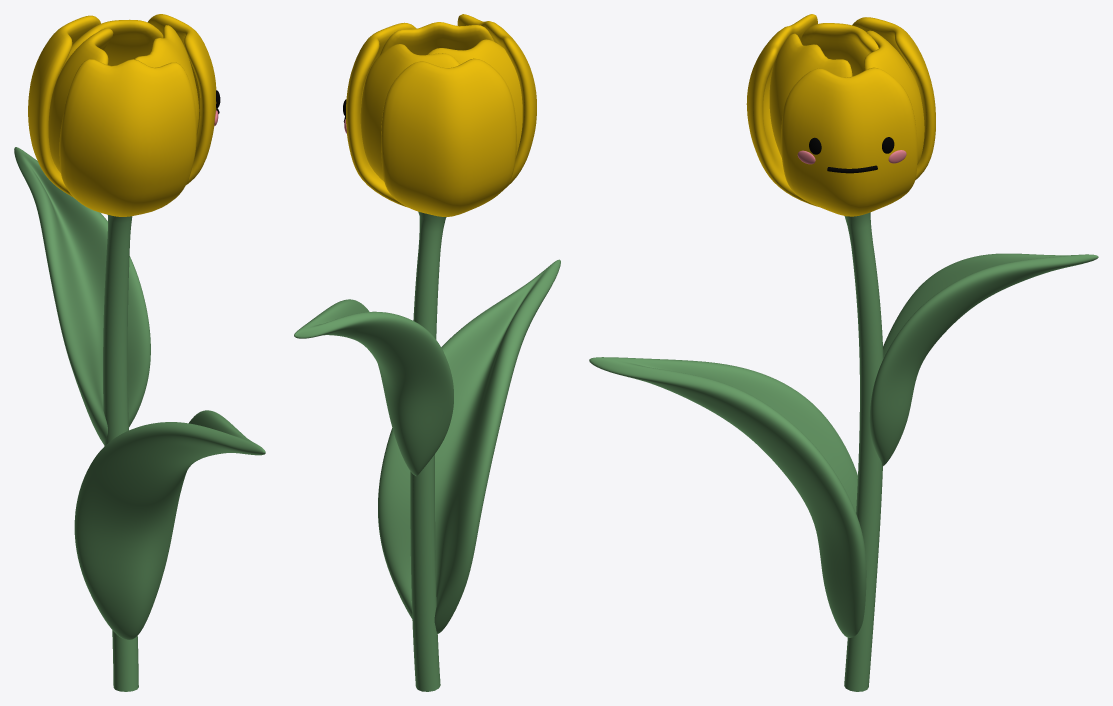
Rendered from neutral.glb.
3 views of the same model, side by side, from view 1: azimuth 30°, elevation 25°; view 2: azimuth 150°, elevation 25°; view 3: azimuth 270°, elevation 25° (orthographic). The views are drawn at different scales.
Parts seen in each view (by area): view 1: Left Leaf, Petal 6, Right Leaf, Stem, Petal 3, Petal 4, Petal 1, Petal 2, Petal 5; view 2: Left Leaf, Petal 3, Right Leaf, Stem, Petal 2, Petal 4, Petal 6, Petal 5, Petal 1; view 3: Left Leaf, Petal 4, Right Leaf, Stem, Petal 6, Petal 5, Petal 3, Petal 1, Petal 2.
Part boxes in pixels (left/top/right/bottom): Left Leaf: left=74, top=410, right=265, bottom=639; Petal 6: left=59, top=59, right=196, bottom=216; Right Leaf: left=14, top=147, right=150, bottom=444; Stem: left=103, top=215, right=138, bottom=691; Petal 3: left=28, top=15, right=100, bottom=196; Petal 4: left=147, top=14, right=216, bottom=184; Petal 1: left=48, top=28, right=113, bottom=172; Petal 2: left=59, top=19, right=163, bottom=74; Petal 5: left=134, top=25, right=199, bottom=132; Left Leaf: left=378, top=259, right=560, bottom=633; Petal 3: left=381, top=58, right=516, bottom=216; Right Leaf: left=294, top=299, right=453, bottom=476; Stem: left=410, top=211, right=446, bottom=691; Petal 2: left=360, top=44, right=460, bottom=181; Petal 4: left=346, top=22, right=416, bottom=207; Petal 6: left=457, top=14, right=536, bottom=188; Petal 5: left=380, top=22, right=494, bottom=55; Petal 1: left=427, top=39, right=522, bottom=157; Left Leaf: left=589, top=357, right=866, bottom=637; Petal 4: left=781, top=67, right=917, bottom=216; Right Leaf: left=869, top=253, right=1098, bottom=466; Stem: left=844, top=212, right=883, bottom=691; Petal 6: left=746, top=14, right=818, bottom=206; Petal 5: left=769, top=33, right=852, bottom=157; Petal 3: left=852, top=17, right=935, bottom=180; Petal 1: left=800, top=23, right=878, bottom=75; Petal 2: left=864, top=30, right=924, bottom=164.
Size of the model in its own units: 1.72 by 6.34 by 4.53.
